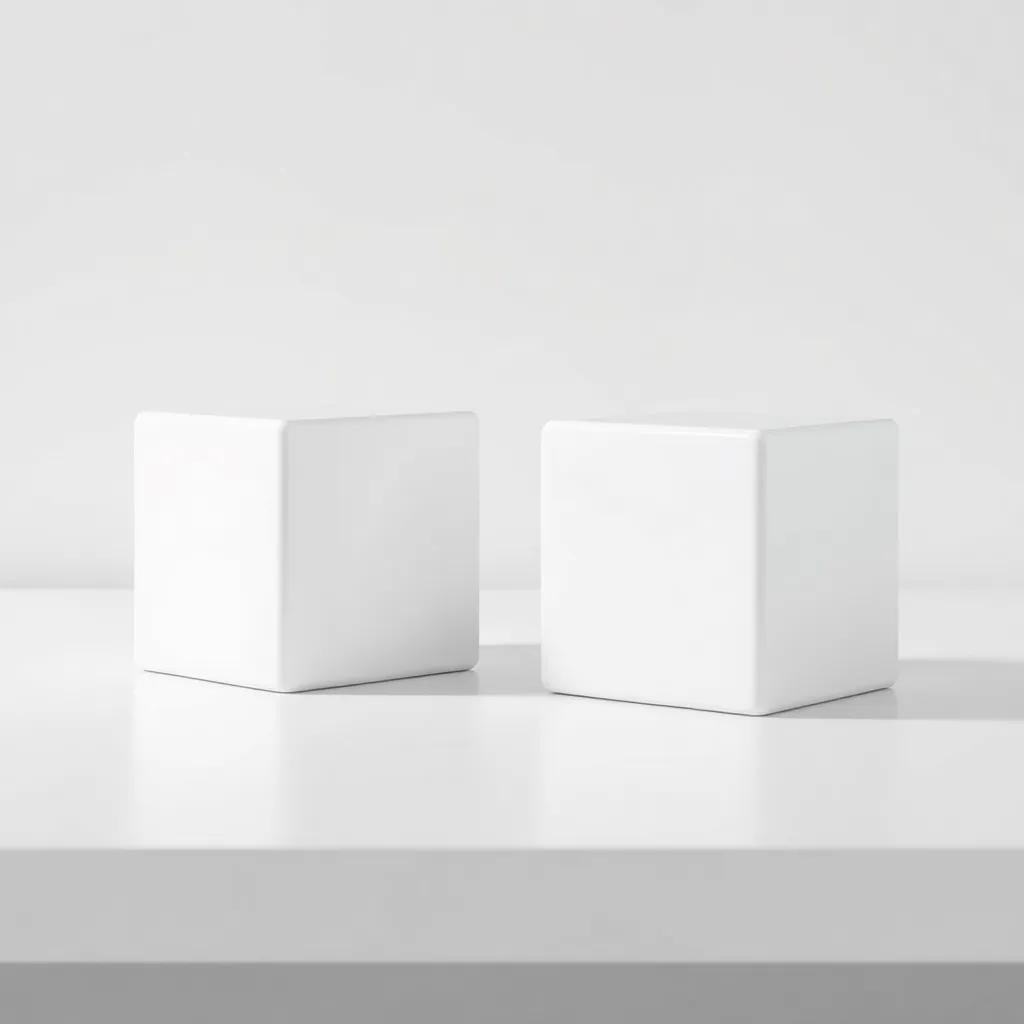cube: (538, 411, 900, 716), (132, 407, 480, 693)
